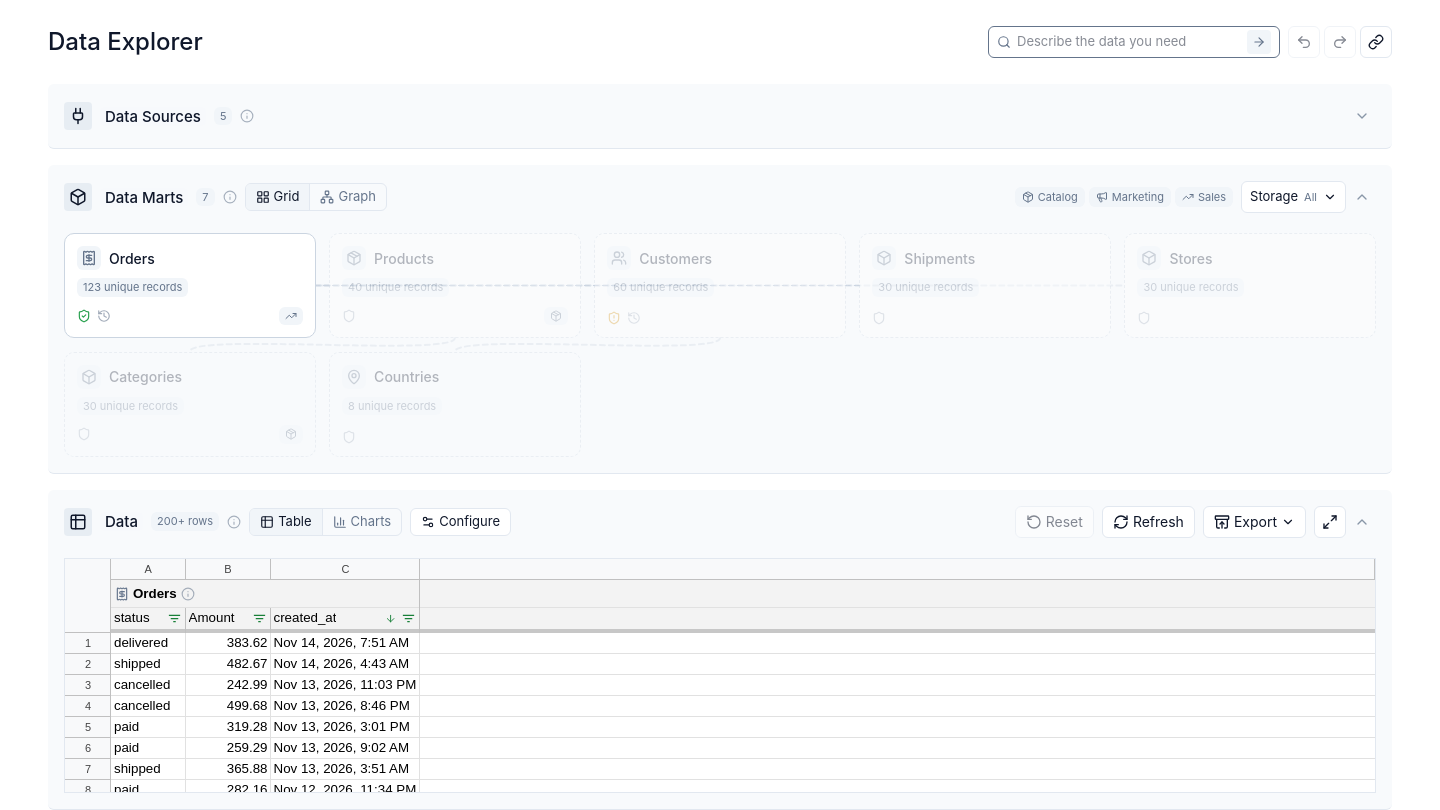
Test: a key hidden for reporting, which the grid reads to open rows by, still gives the total to the card, and Refresh adds no count read
The width and height of the screenshot is (1440, 810).
Click the button "Refresh".
click(1148, 522)  # box [1102,506,1195,538]
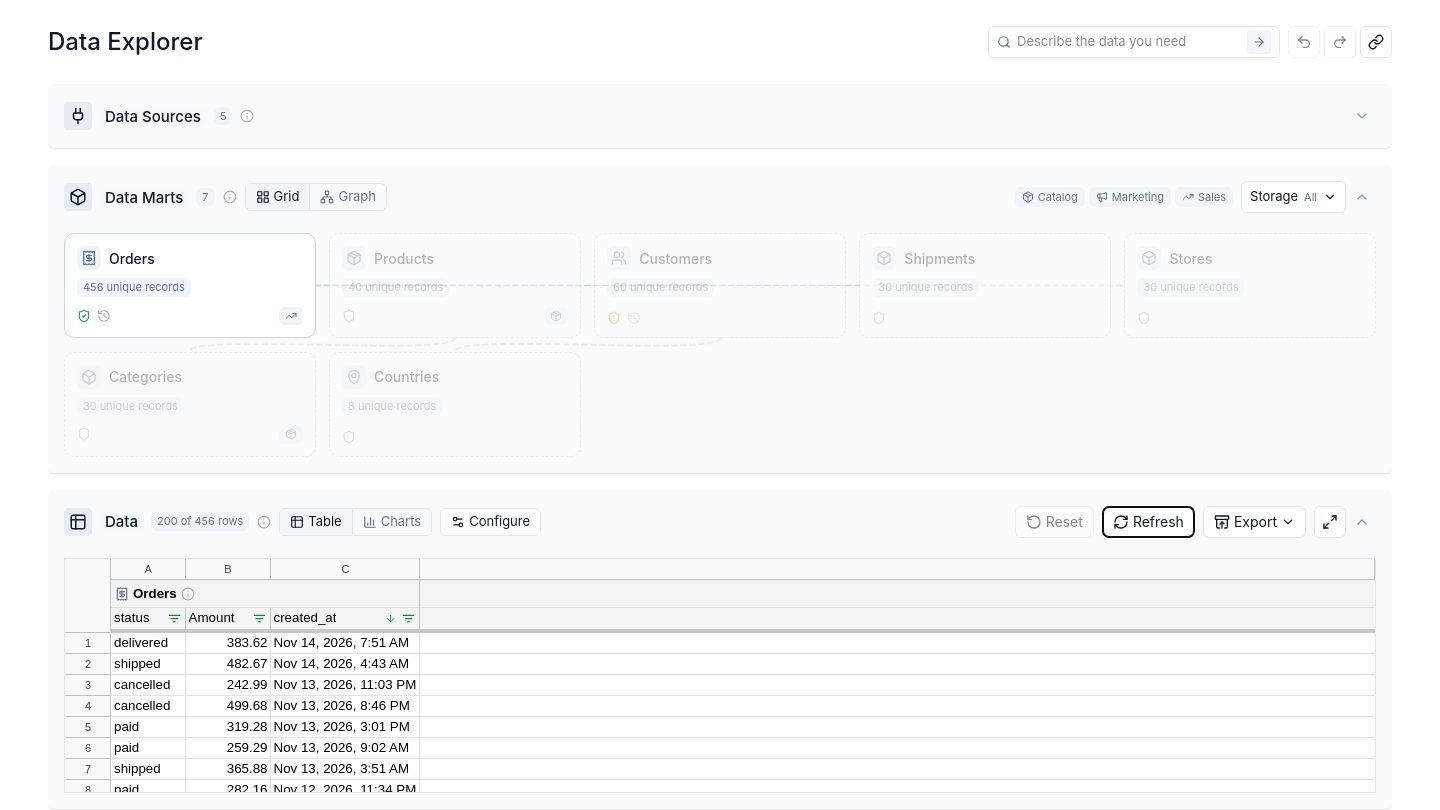
Expected: the element showing "Orders 456 unique records" is shown, [64,233,316,338]
